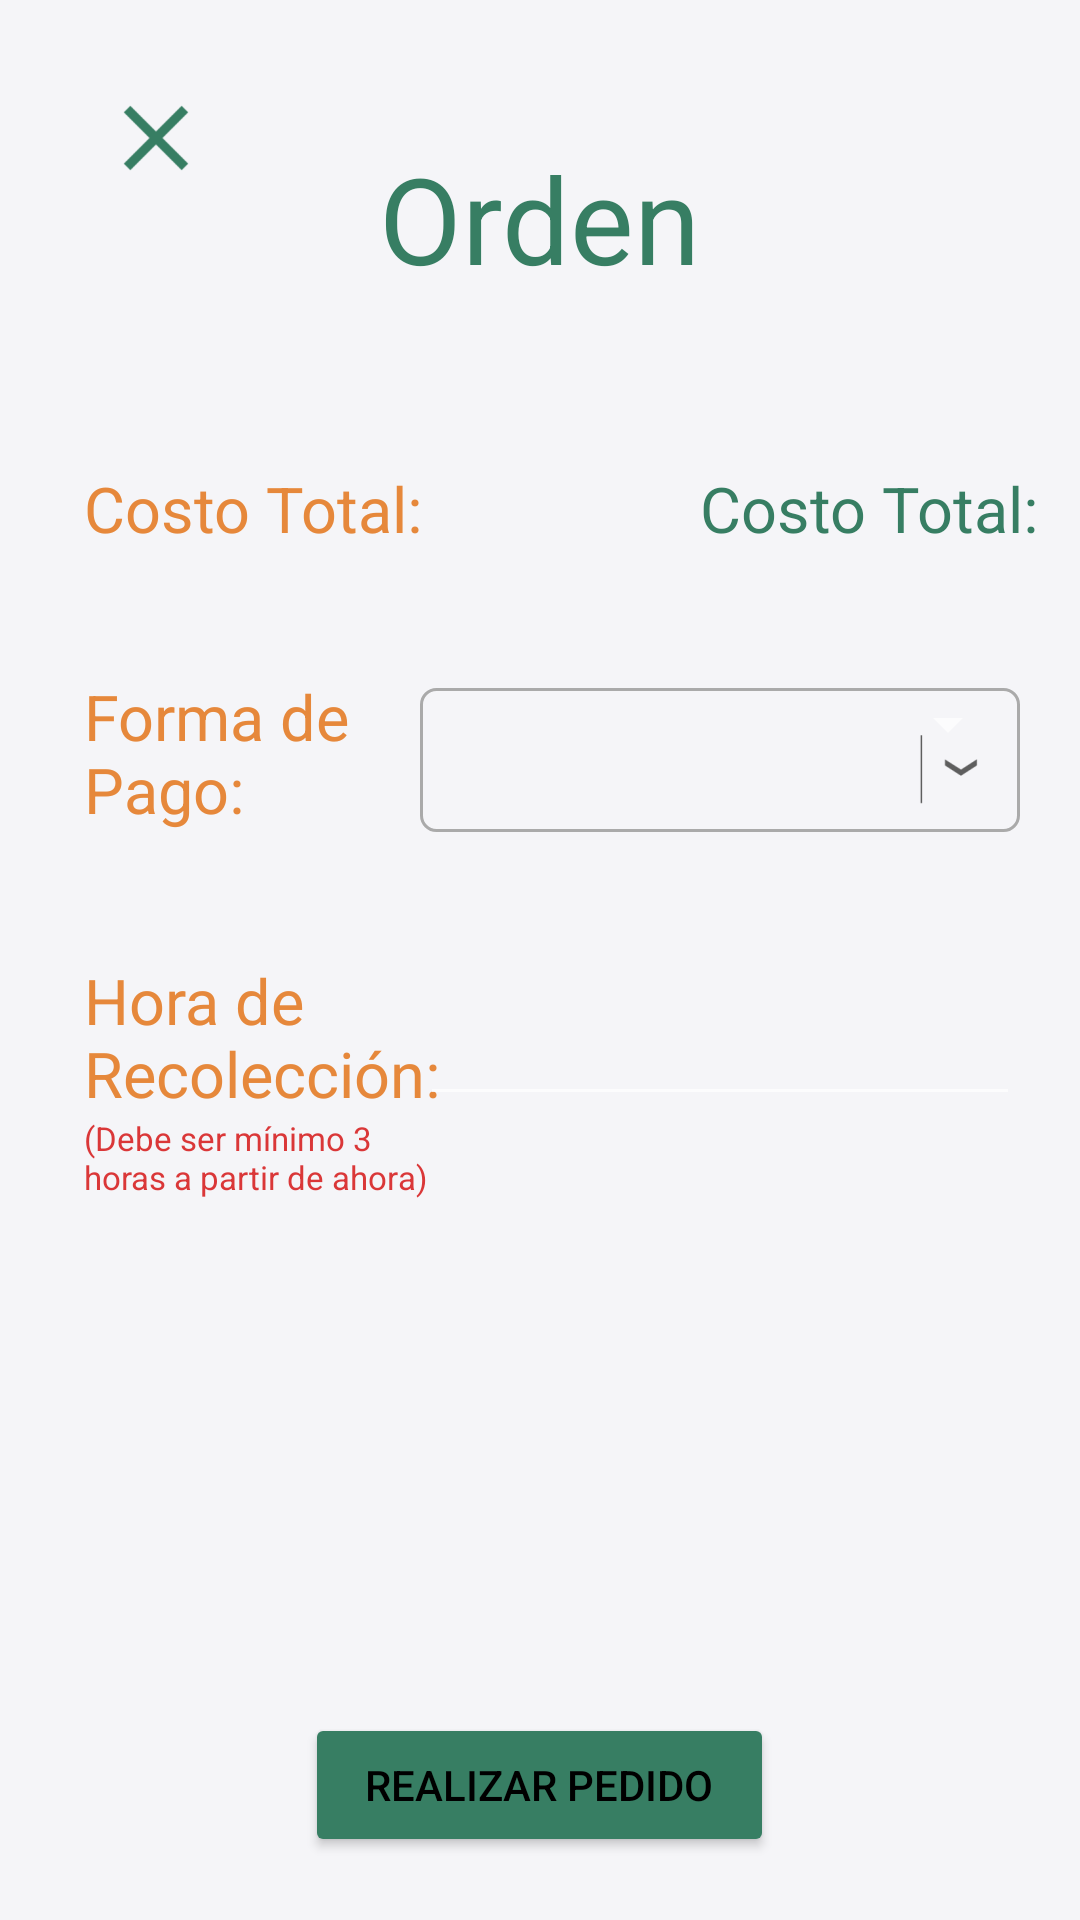

Locate icon controls on the screen. Image size 1080w x 1920h, boxes as Rect(x1, y1, x2, y2).
close: Rect(124, 106, 188, 170)
